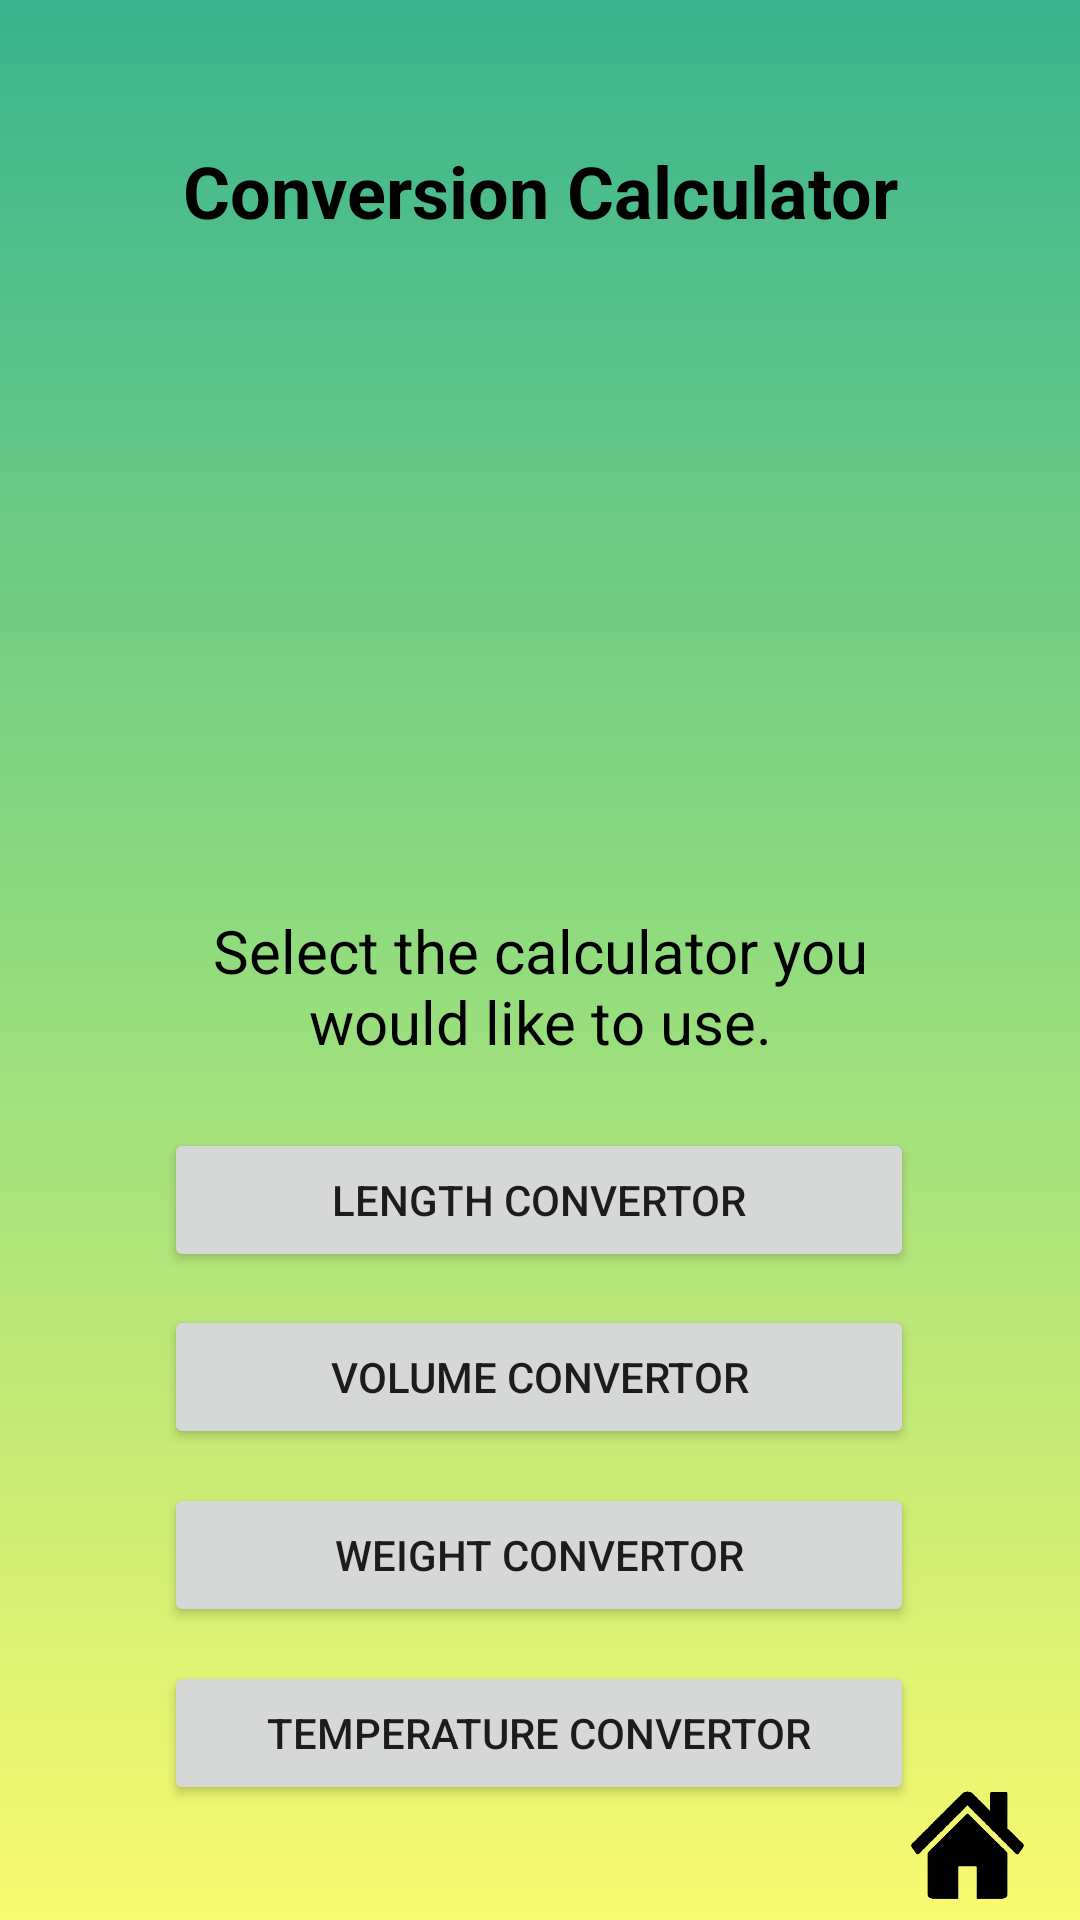

Icon click points for this 1080px×1920px phone screenshot, format (x=x, y=y):
homeicon: (x=967, y=1845)
